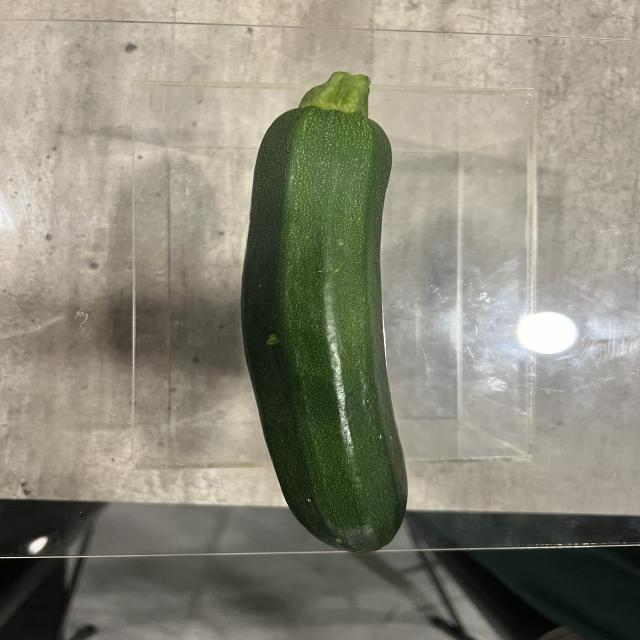zucchini: (238, 70, 410, 554)
